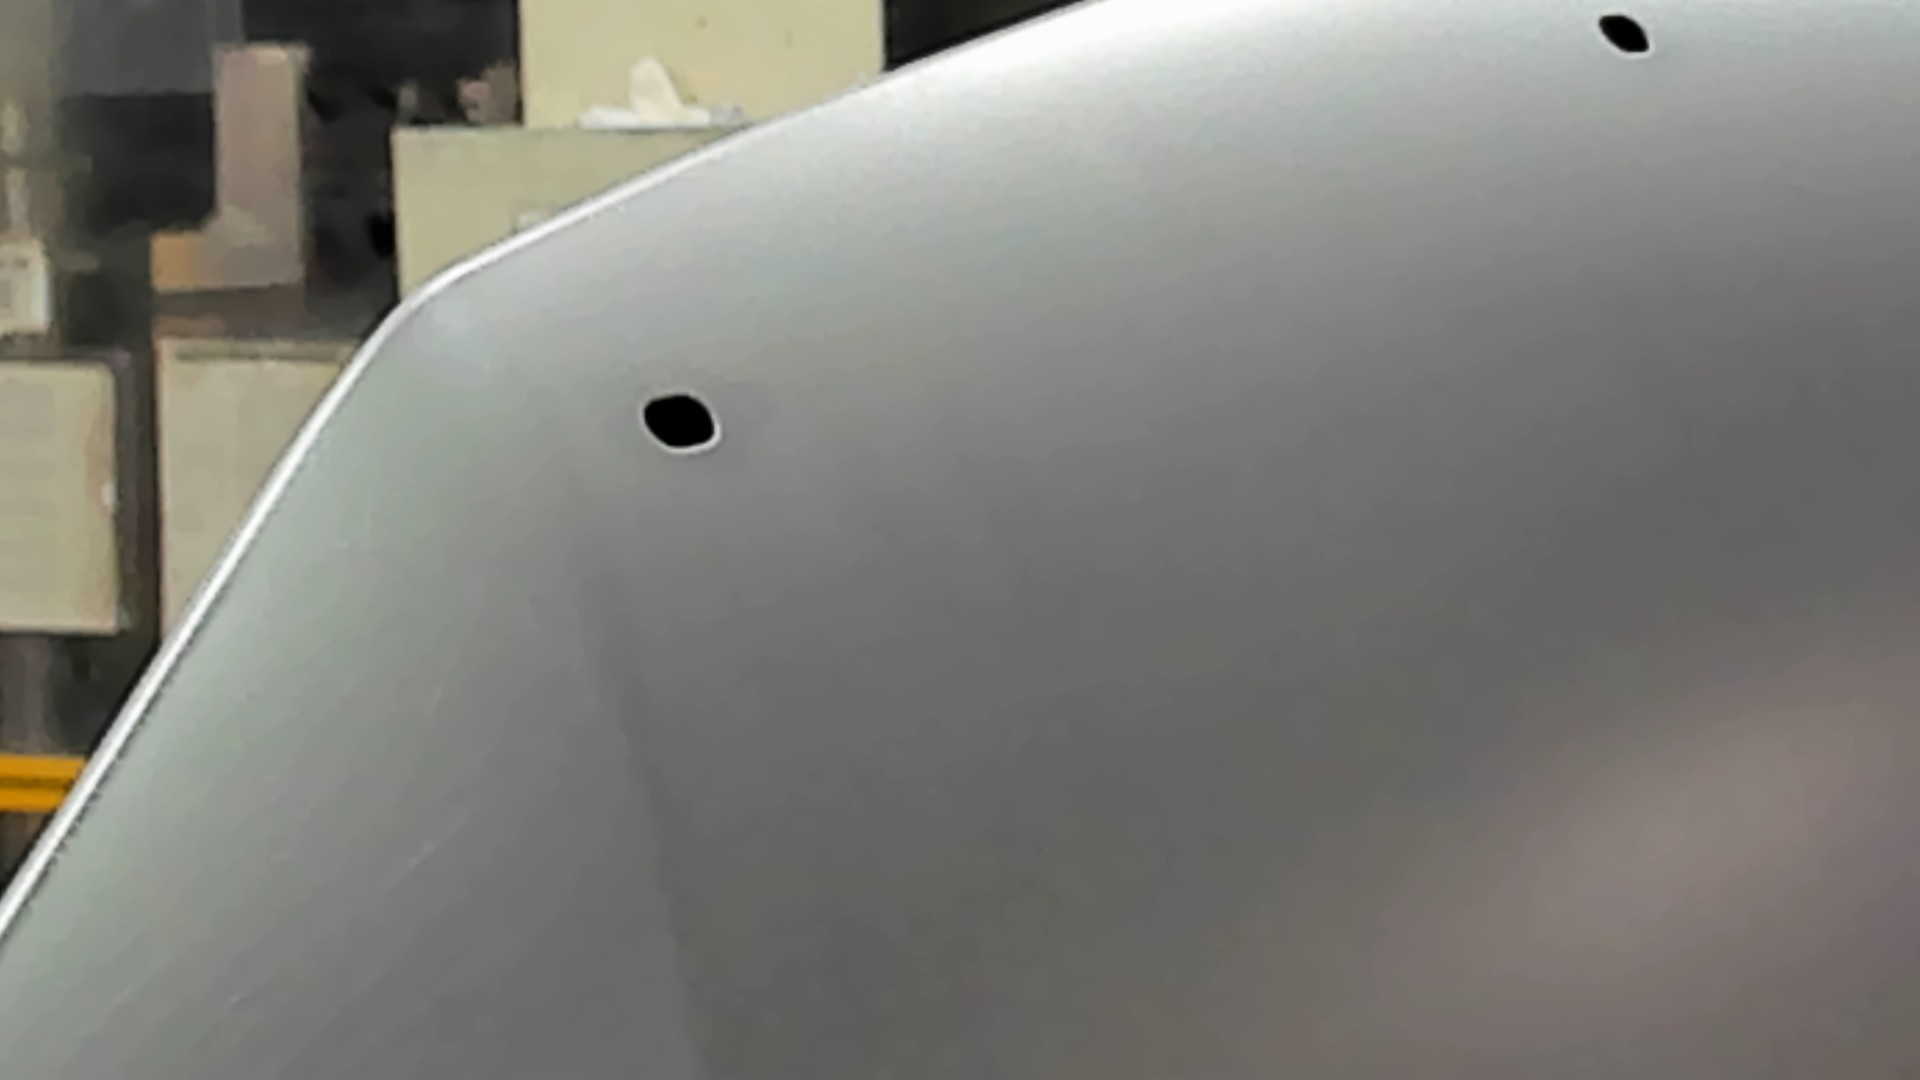amorfo: (633, 382, 732, 458), (1596, 11, 1656, 62)
